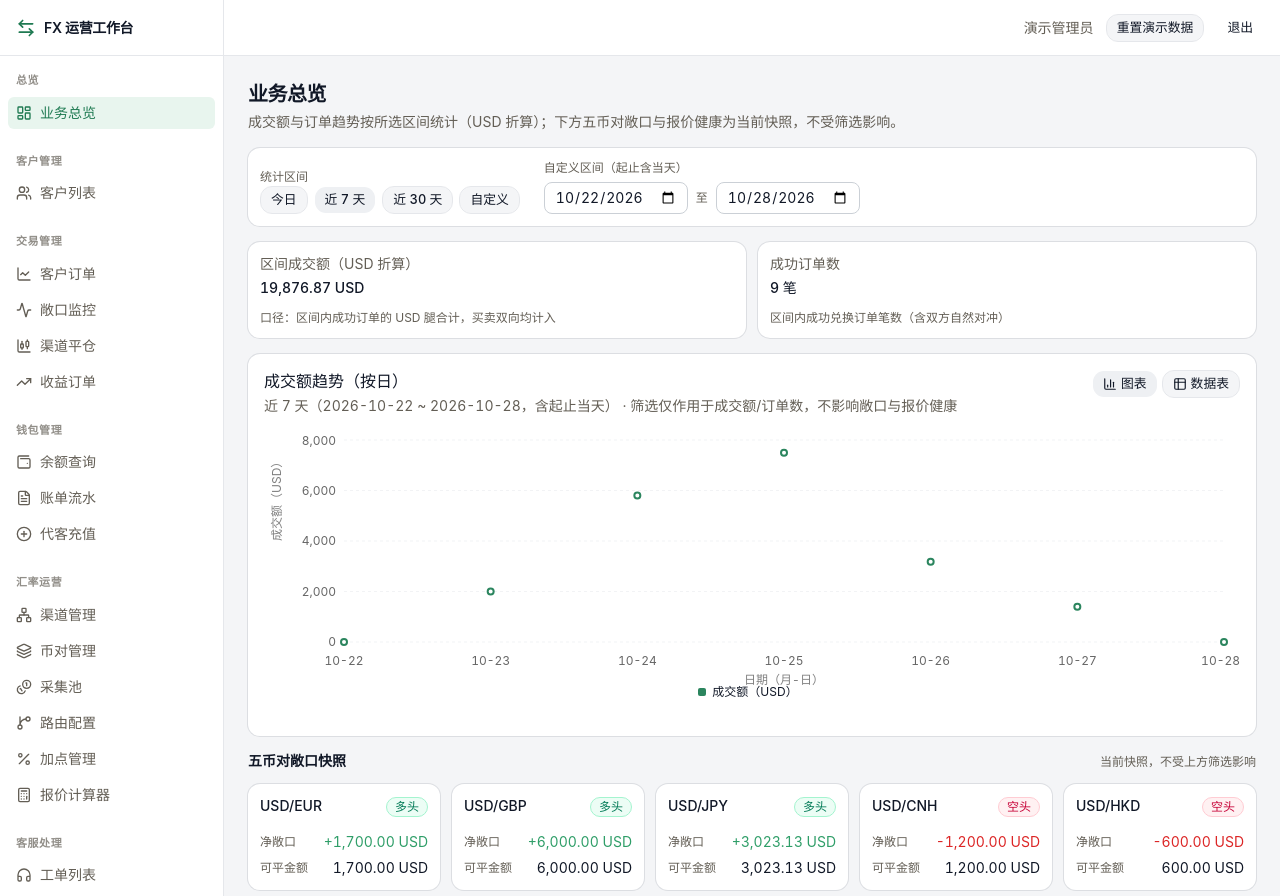
J3 运营交易闭环 › 总览筛选切换：趋势随区间变化，敞口与报价健康快照不动
The image size is (1280, 896).
Click the button "数据表".
click(1201, 384)  # box [1162,370,1240,398]
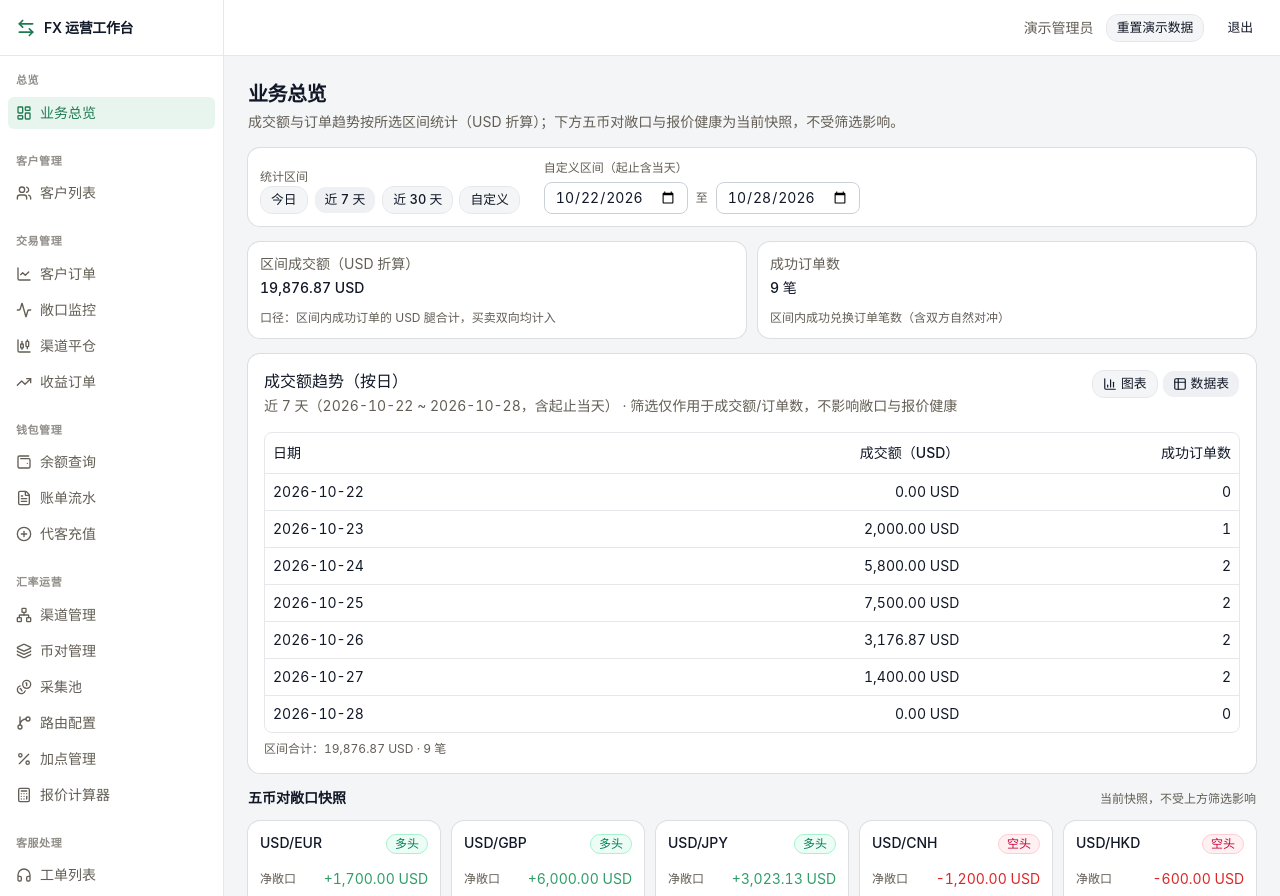
Click the button "今日".
click(284, 200)  # box [260,186,308,214]
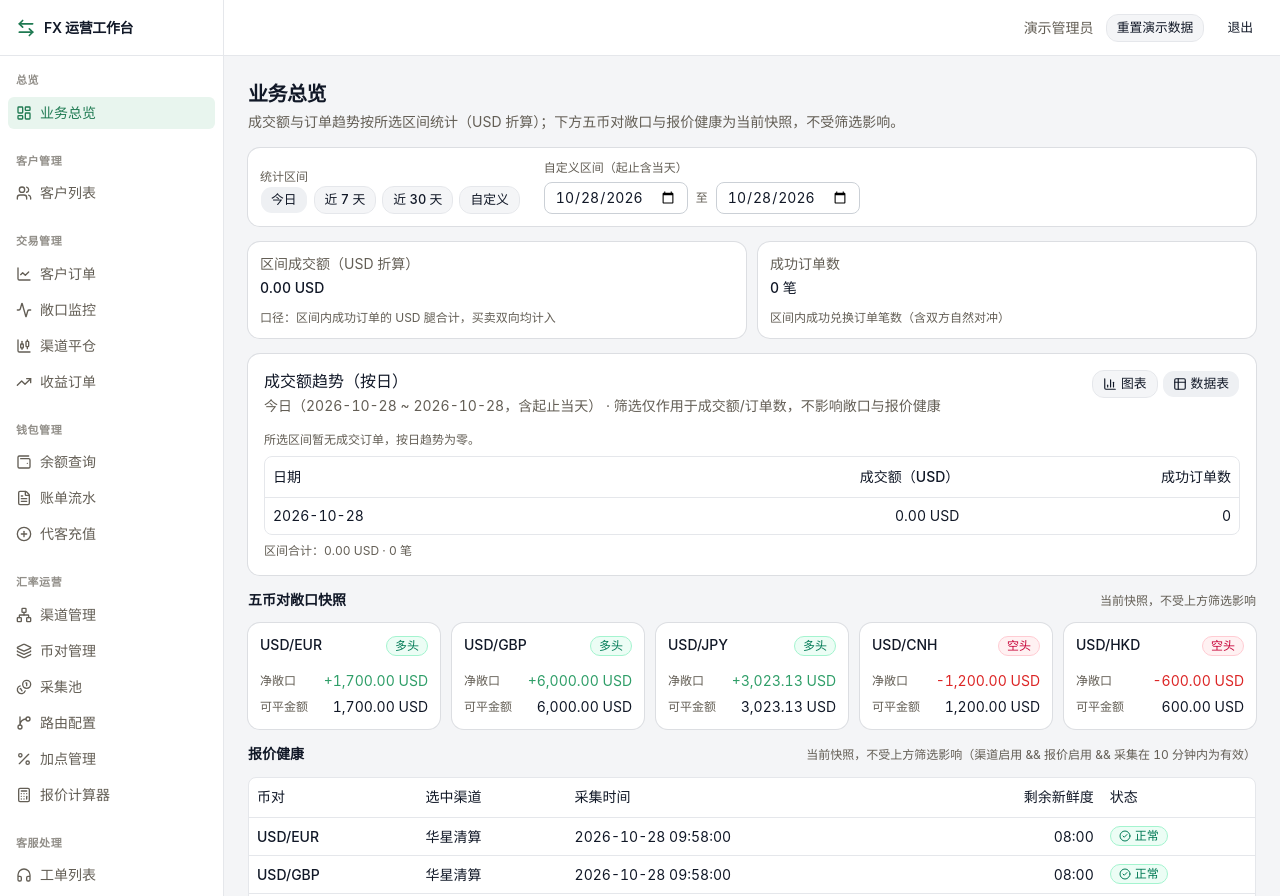
Check: the text "0.00 USD" is shown, box [260,279,324,296]
Check: the text "0 笔" is shown, box [770,279,797,296]
